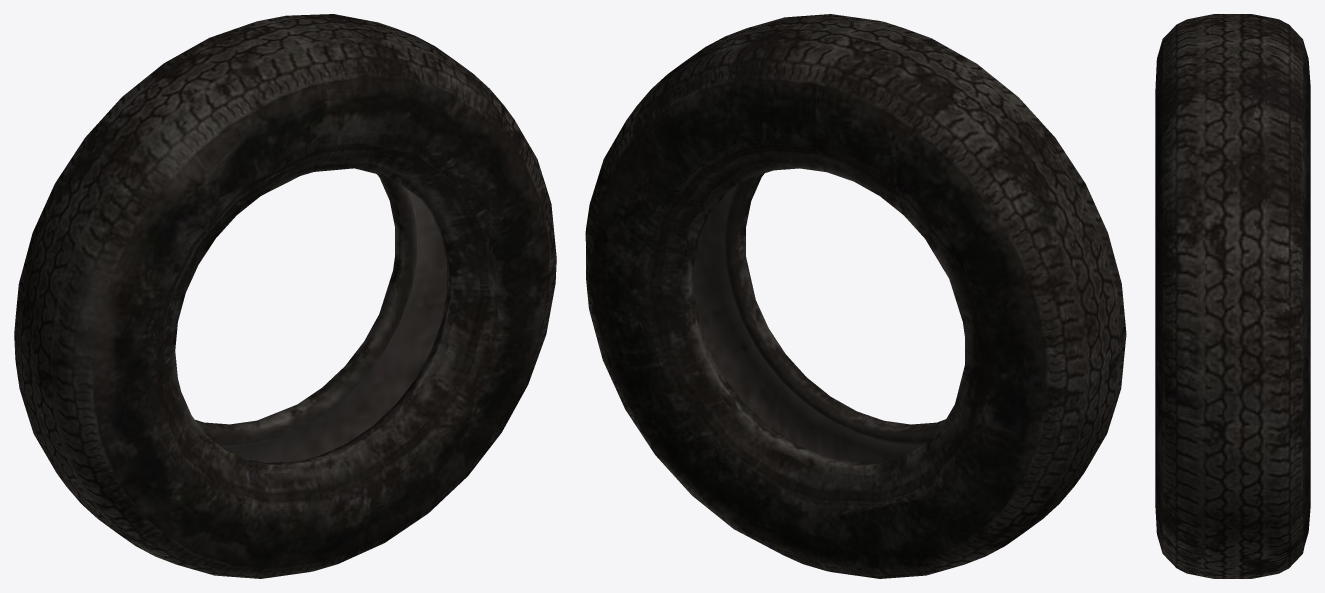
Rendered from p_old_tyre.glb.
3 renders of one model, left to right at view 1: azimuth 30°, elevation 25°; view 2: azimuth 150°, elevation 25°; view 3: azimuth 270°, elevation 25°, orthographic. The views are drawn at different scales.
Visible parts, largest first — view 1: old_tyre; view 2: old_tyre; view 3: old_tyre.
Part boxes in pixels (x1,y1,x2,y2): old_tyre: (14,14,556,578); old_tyre: (585,14,1126,578); old_tyre: (1155,14,1310,578).
Bounding box in the file's own units: 0.6 × 0.6 × 0.165.
1 material, 1 textured.
